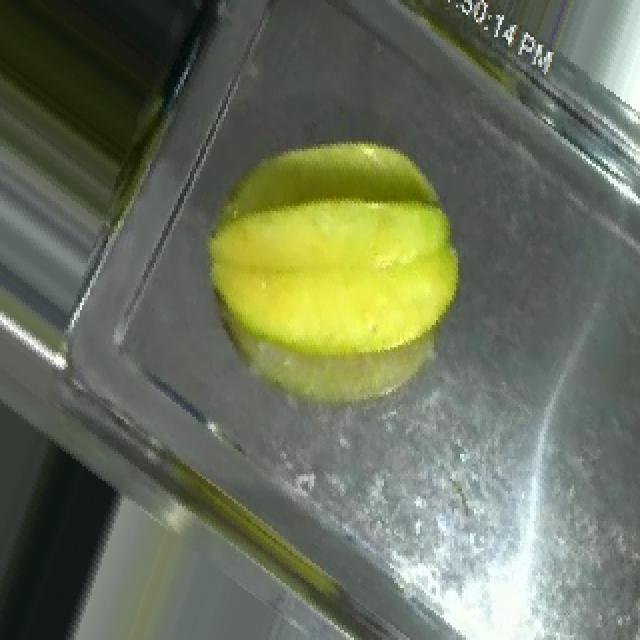fruit: (162, 77, 518, 451)
